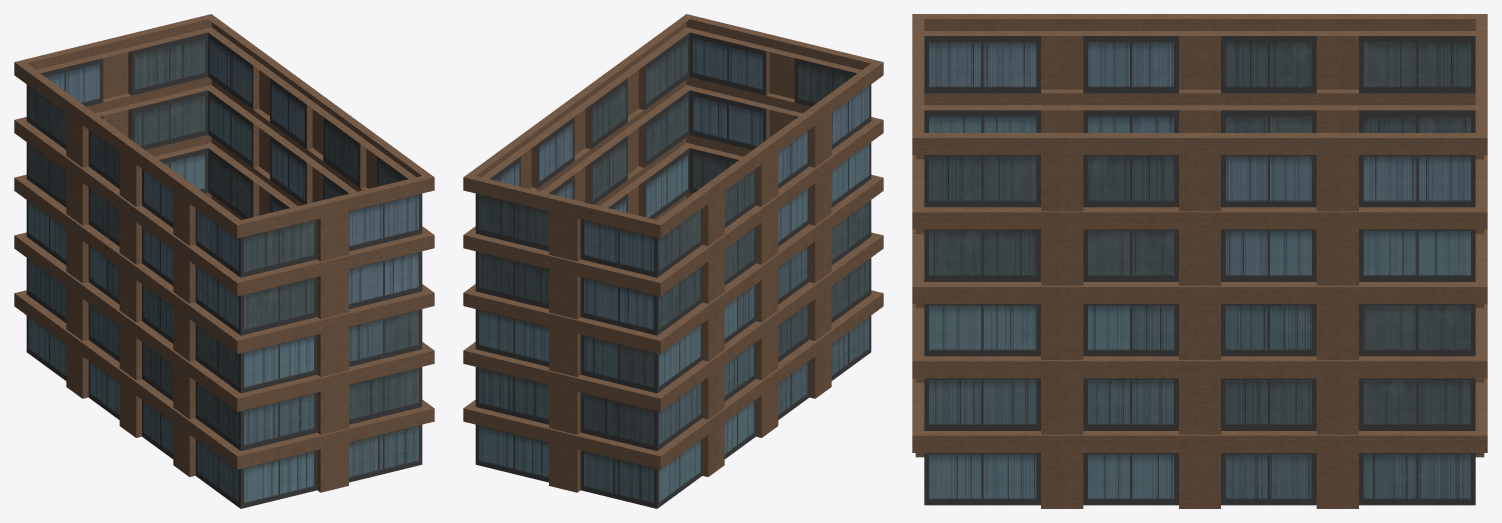
The model's file is jctBld24_12D_mdl_low.fbx.
The picture shows the model from 3 angles, left to right: view 1: azimuth 30°, elevation 25°; view 2: azimuth 150°, elevation 25°; view 3: azimuth 270°, elevation 25°; orthographic projection. The views are drawn at different scales.
Parts seen in each view (by area): view 1: jctBld24_12D_mdl_low; view 2: jctBld24_12D_mdl_low; view 3: jctBld24_12D_mdl_low.
Boxes of the visible parts, left/top/right/bottom form: jctBld24_12D_mdl_low: left=14, top=14, right=434, bottom=508; jctBld24_12D_mdl_low: left=463, top=14, right=883, bottom=508; jctBld24_12D_mdl_low: left=912, top=14, right=1487, bottom=508.
Bounding box in the file's own units: 1250 × 1750 × 2450.
